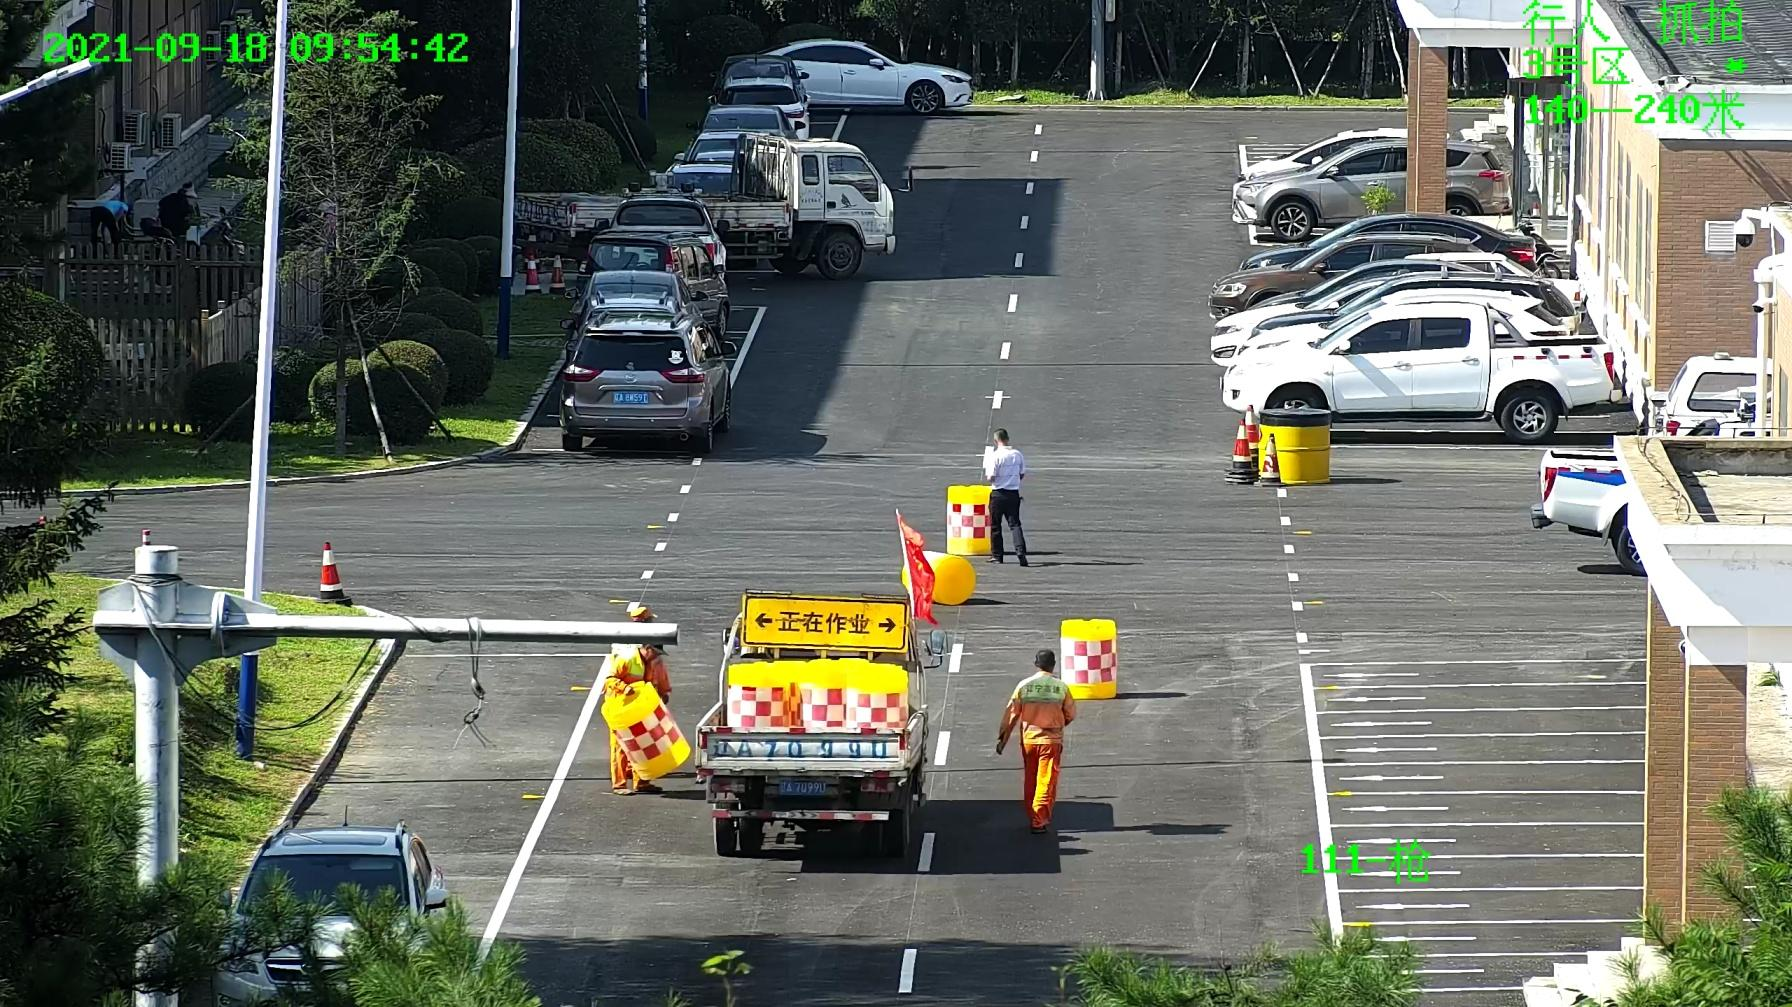cone_barrel: (722, 661, 798, 732), (1057, 620, 1116, 702), (846, 662, 907, 730), (900, 549, 975, 604), (794, 659, 843, 732), (946, 486, 992, 556)
